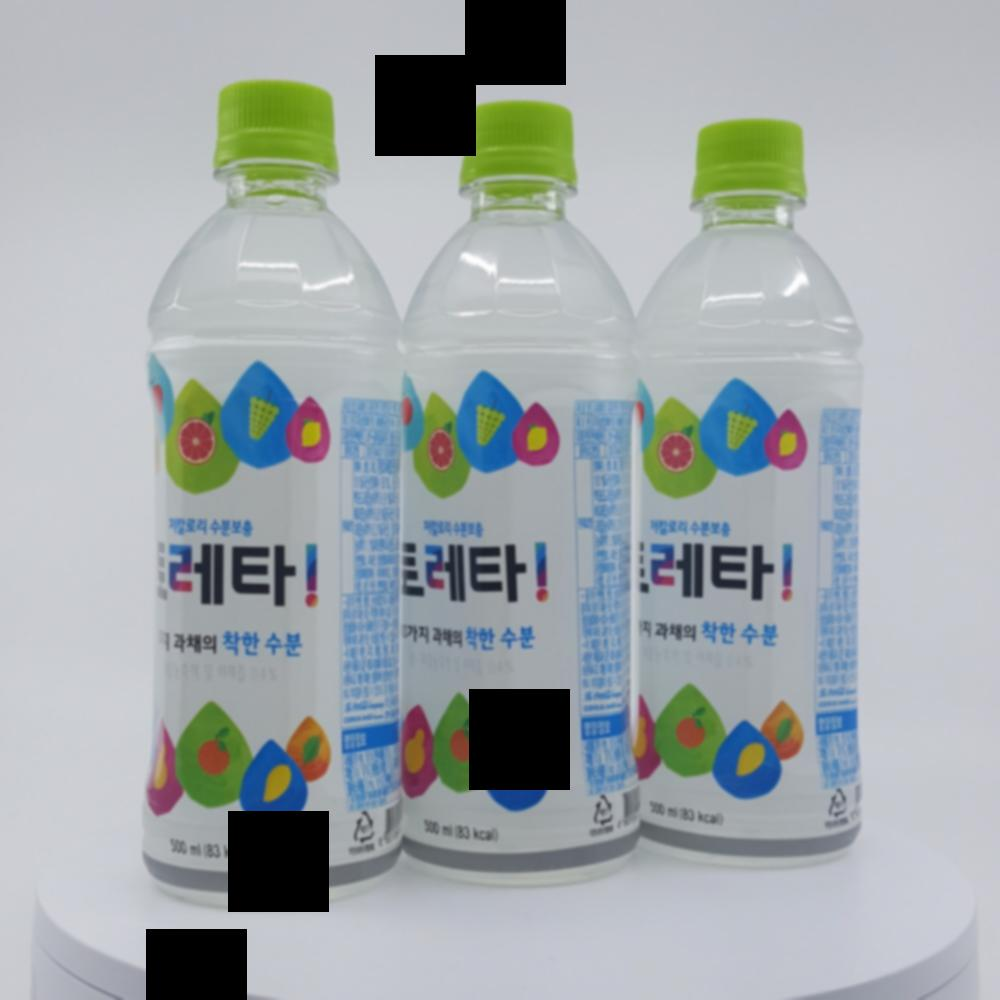toreta: (136, 66, 402, 906), (633, 106, 881, 870), (416, 97, 648, 864)
